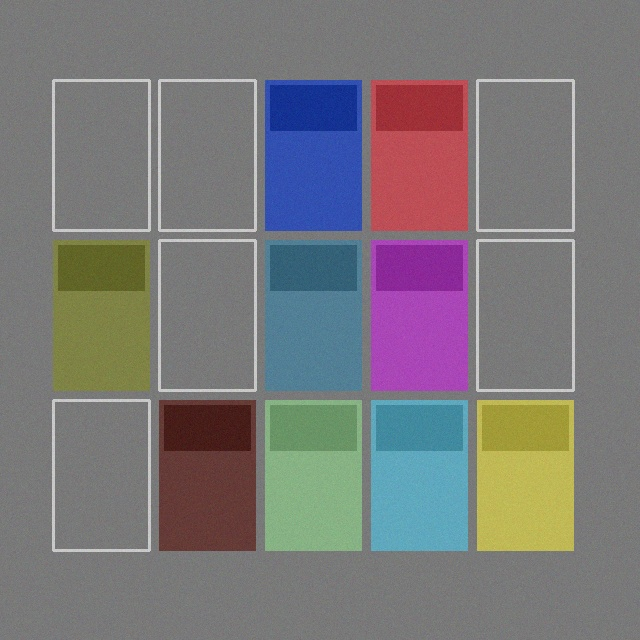space-empty: (53, 80, 149, 230), (159, 80, 255, 230), (477, 80, 573, 230), (159, 240, 255, 390), (477, 240, 573, 390), (53, 400, 149, 550)
space-occupied: (265, 80, 361, 230), (371, 80, 467, 230), (53, 240, 149, 390), (265, 240, 361, 390), (371, 240, 467, 390), (159, 400, 255, 550), (265, 400, 361, 550), (371, 400, 467, 550), (477, 400, 573, 550)
